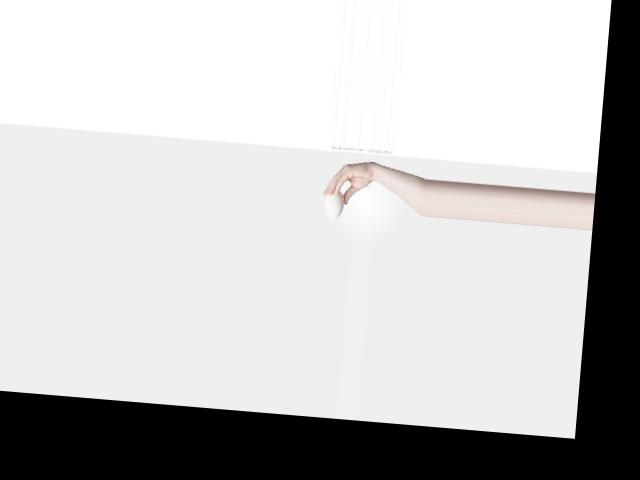egg: (323, 189, 345, 220)
